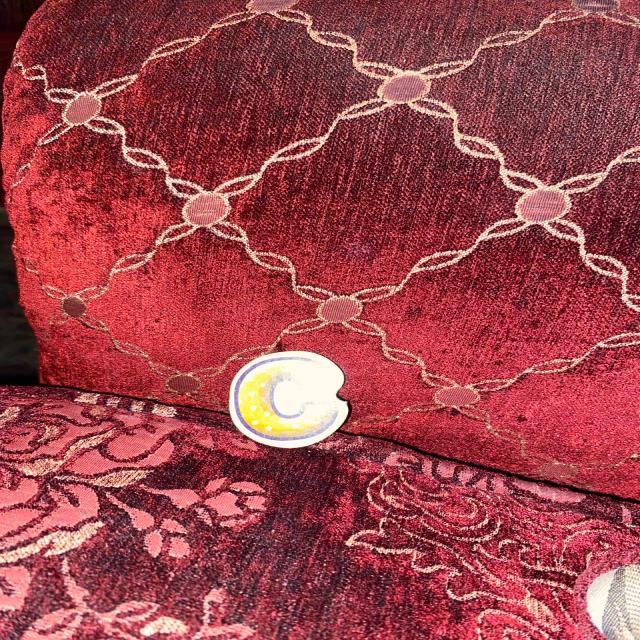C: (229, 352, 347, 447)
